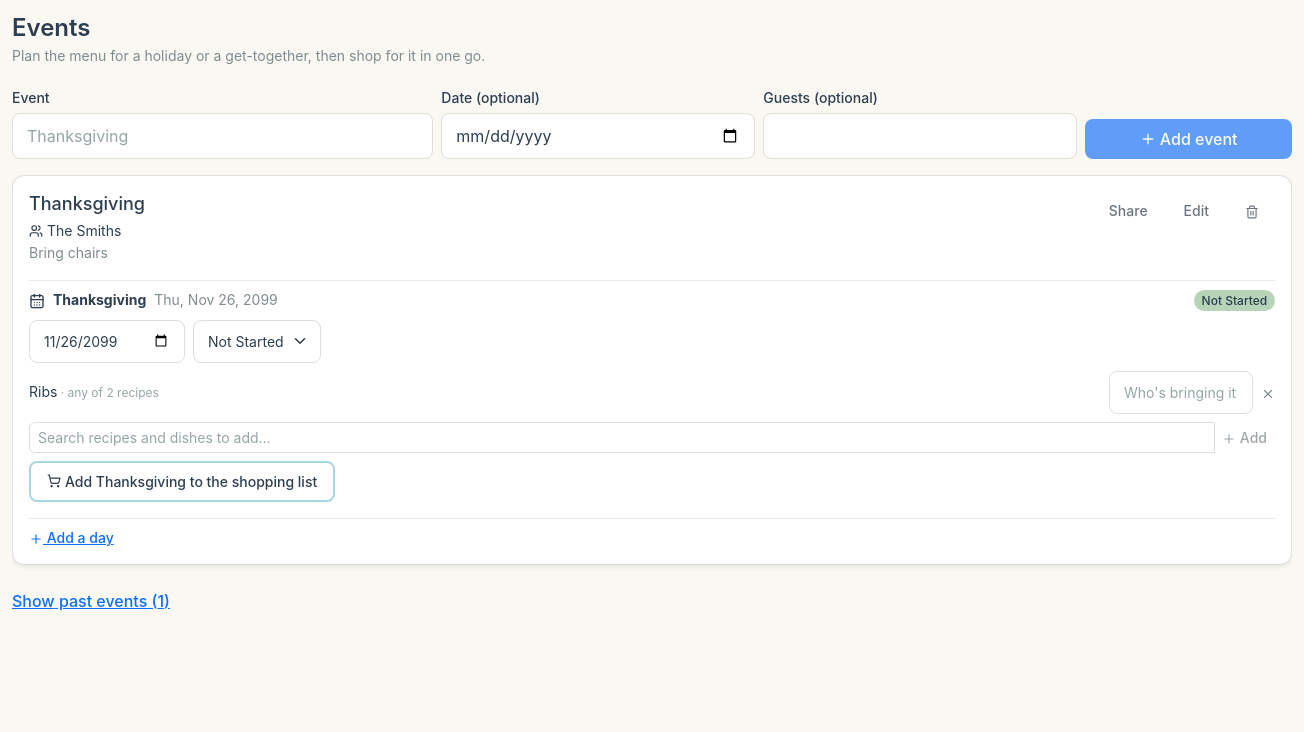
Test: says so when the menu is already on the list
Click the button "Add Thanksgiving to the shopping list": (182, 481) top-left (29, 461), bottom-right (335, 502)
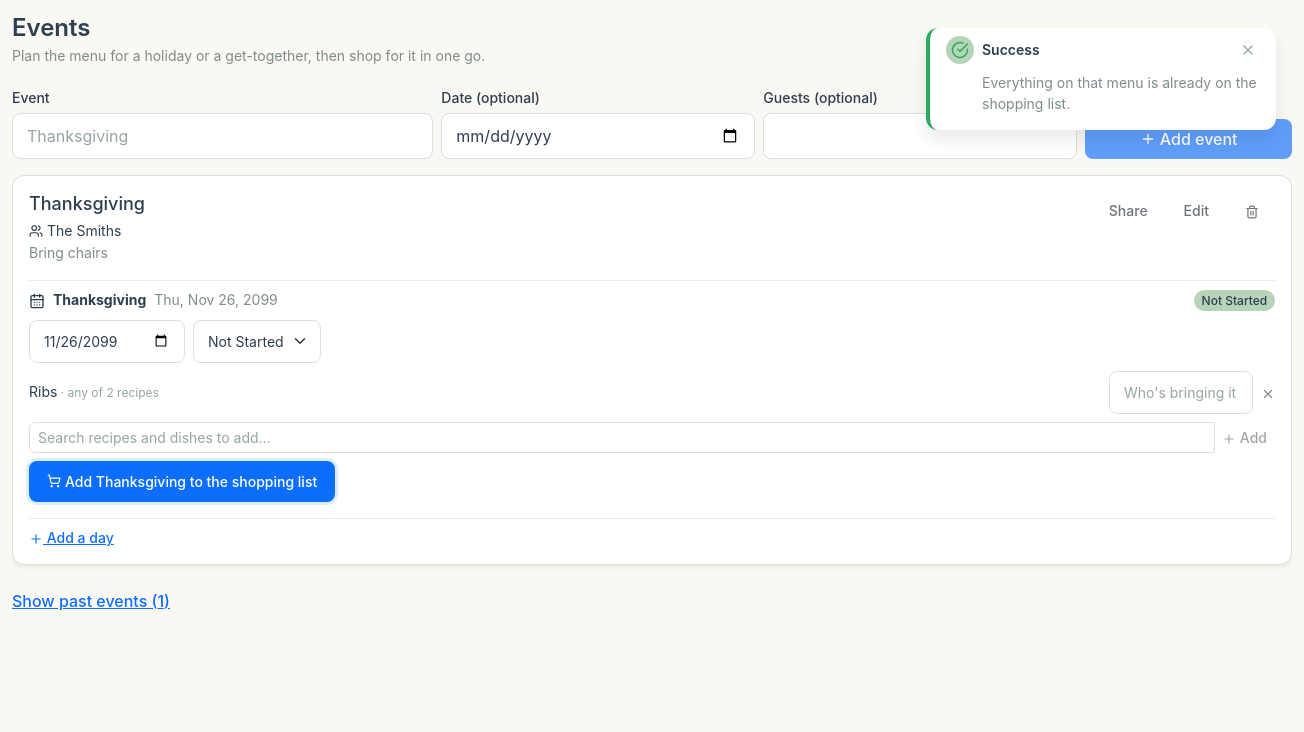
Expected: the text "Everything on that menu is already on the shopping list." is shown, top-left (982, 74), bottom-right (1257, 112)
